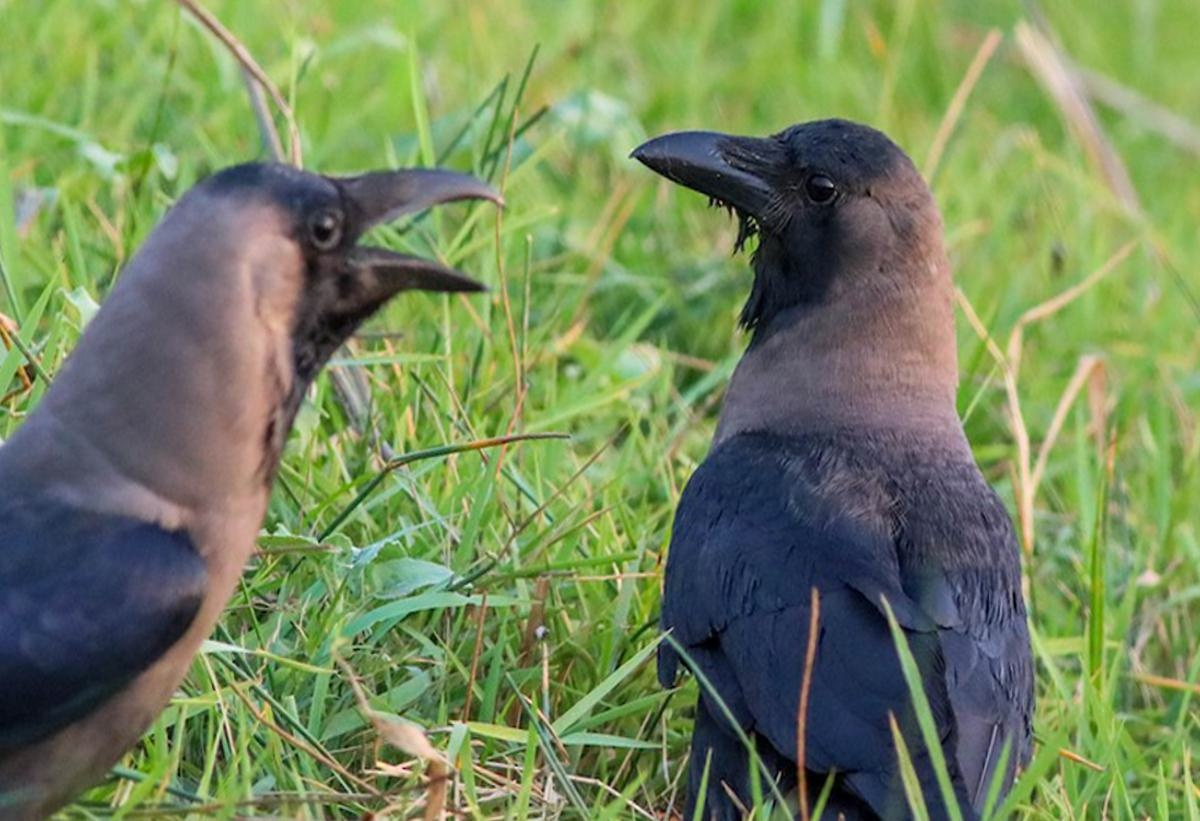crow: (1, 155, 525, 821), (624, 106, 1055, 811)
